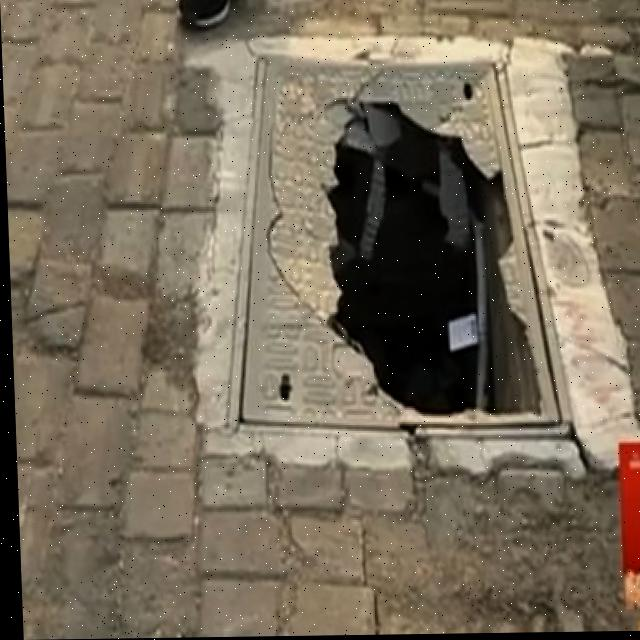manhole: (233, 41, 563, 453)
